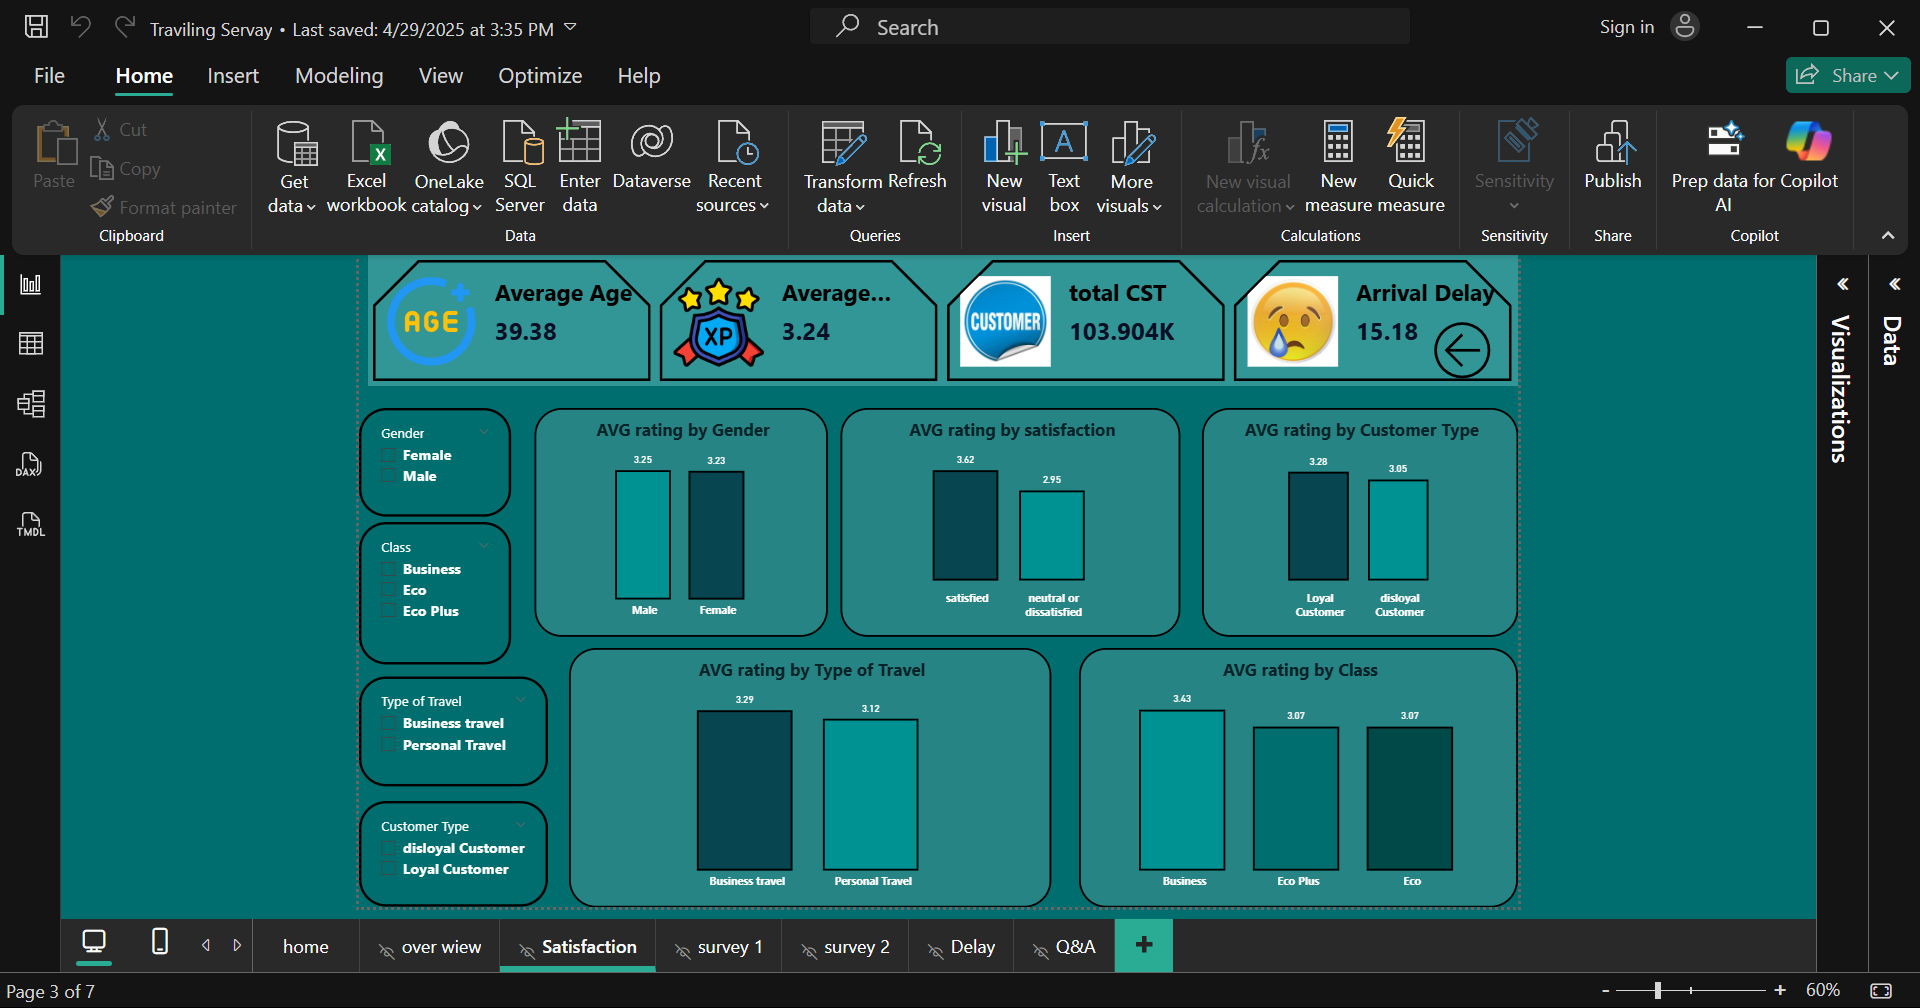

The dashboard page shown, as its layout file describes it:
{"tool":"powerbi","page":{"name":"Satisfaction","canvas":[1280,720],"ordinal":2},"visuals":[{"type":"clusteredColumnChart","title":"AVG rating by Class","fields":{"Category":["train.Class"],"Y":["Avg(train.AVG rating)"]},"box":[794.8,433.2,484.7,286.8],"z":0},{"type":"clusteredColumnChart","title":"AVG rating by Gender","fields":{"Y":["Avg(train.AVG rating)"],"Category":["train.Gender"]},"box":[193.2,168.3,324.2,252.5],"z":1000},{"type":"clusteredColumnChart","title":"AVG rating by satisfaction","fields":{"Y":["Avg(train.AVG rating)"],"Category":["train.satisfaction"]},"box":[531.4,168.3,375.6,252.5],"z":2000},{"type":"clusteredColumnChart","title":"AVG rating by Type of Travel","fields":{"Y":["Avg(train.AVG rating)"],"Category":["train.Type of Travel"]},"box":[232.2,433.2,533,286.8],"z":3000},{"type":"clusteredColumnChart","title":"AVG rating by Customer Type","fields":{"Y":["Avg(train.AVG rating)"],"Category":["train.Customer Type"]},"box":[930.4,168.3,349.1,252.5],"z":4000},{"type":"slicer","fields":{"Values":["train.Gender"]},"box":[0,168.3,168.3,120],"z":5000},{"type":"slicer","fields":{"Values":["train.Type of Travel"]},"box":[0,466,208.8,121.6],"z":6000},{"type":"slicer","fields":{"Values":["train.Class"]},"box":[0,294.5,168.3,157.4],"z":7000},{"type":"slicer","fields":{"Values":["train.Customer Type"]},"box":[0,603.1,208.8,116.9],"z":8000},{"type":"cardVisual","fields":{"Data":["Avg(train.Age)","Avg(train.AVG rating)","Count(train.id)","Avg(train.Arrival Delay in Minutes)"]},"box":[9.4,0,1270.1,144.9],"z":9000},{"type":"actionButton","box":[1179.7,67,99.7,77.9],"z":10000}]}

Visuals, with their boxes on the page's 1280x720 design canvas (x1, y1, x2, y2). These are canvas units, not pixel positions in the 1920x1008 screenshot, which may show the page scaled, cropped or inside an application window:
"AVG rating by Class" clusteredColumnChart: {"x1": 795, "y1": 433, "x2": 1280, "y2": 720}
"AVG rating by Gender" clusteredColumnChart: {"x1": 193, "y1": 168, "x2": 517, "y2": 421}
"AVG rating by satisfaction" clusteredColumnChart: {"x1": 531, "y1": 168, "x2": 907, "y2": 421}
"AVG rating by Type of Travel" clusteredColumnChart: {"x1": 232, "y1": 433, "x2": 765, "y2": 720}
"AVG rating by Customer Type" clusteredColumnChart: {"x1": 930, "y1": 168, "x2": 1280, "y2": 421}
slicer - train.Gender: {"x1": 0, "y1": 168, "x2": 168, "y2": 288}
slicer - train.Type of Travel: {"x1": 0, "y1": 466, "x2": 209, "y2": 588}
slicer - train.Class: {"x1": 0, "y1": 294, "x2": 168, "y2": 452}
slicer - train.Customer Type: {"x1": 0, "y1": 603, "x2": 209, "y2": 720}
cardVisual - Avg(train.Age) x Avg(train.AVG rating): {"x1": 9, "y1": 0, "x2": 1280, "y2": 145}
actionButton: {"x1": 1180, "y1": 67, "x2": 1279, "y2": 145}
